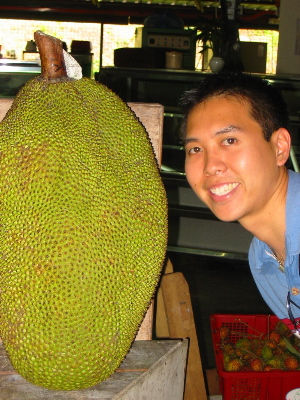jackfruit: (1, 73, 169, 393)
